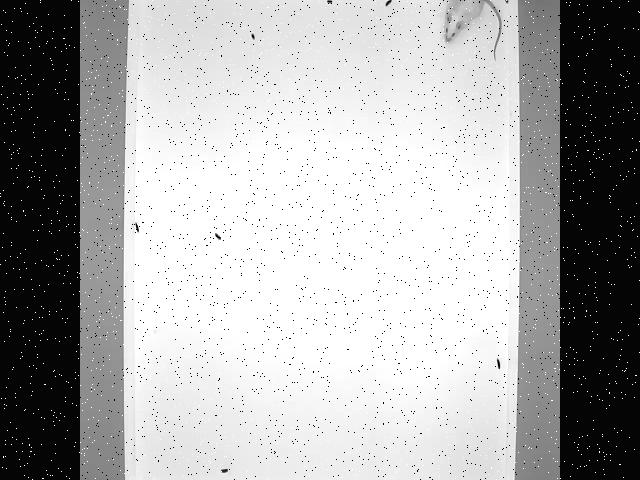Tikus: (441, 0, 504, 62)
